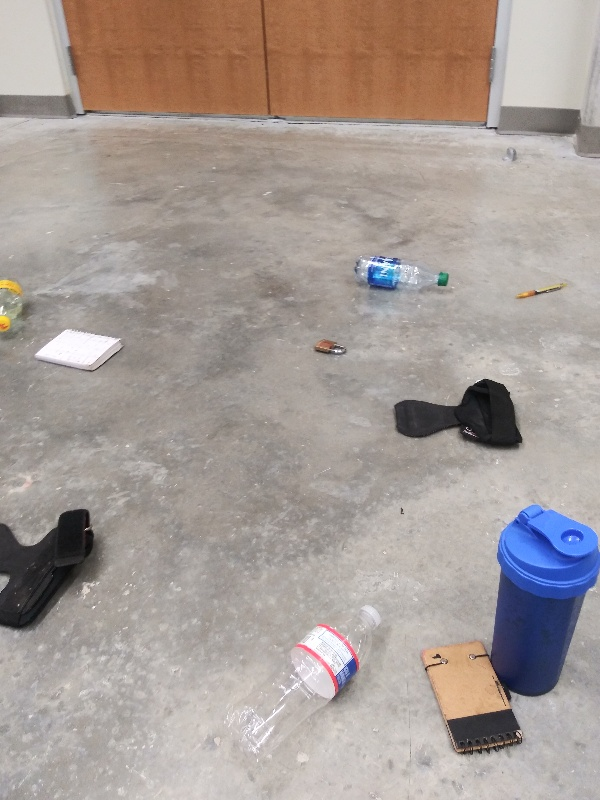bottle: (221, 601, 386, 761), (350, 252, 453, 296), (1, 273, 26, 336)
